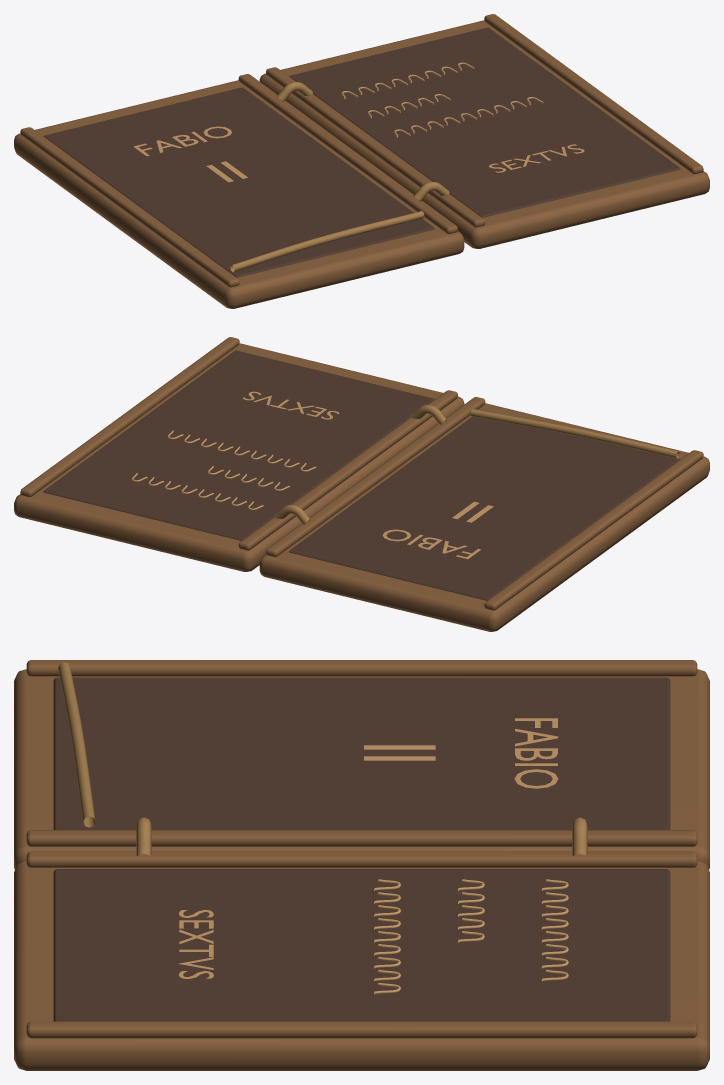
File: sextus_tablet.glb
3 renders of one model, top to bottom at view 1: azimuth 30°, elevation 25°; view 2: azimuth 150°, elevation 25°; view 3: azimuth 270°, elevation 25°, orthographic. The views are drawn at different scales.
Parts seen in each view (by area): view 1: Recessed wax.001, Recessed wax, Maple leaf, Maple leaf.001, Carved rim, Carved rim.003, Carved rim.001, Carved rim.002, Bronze stylus, Recipient; view 2: Recessed wax.001, Recessed wax, Maple leaf, Maple leaf.001, Carved rim, Carved rim.003, Carved rim.001, Carved rim.002, Bronze stylus, Recipient; view 3: Recessed wax.001, Recessed wax, Maple leaf.001, Maple leaf, Carved rim.003, Carved rim.002, Carved rim, Carved rim.001, Bronze stylus, Recipient, Author, Quantity.
Part boxes in pixels (left/top/right/bottom): Recessed wax.001: left=289, top=27, right=680, bottom=217; Recessed wax: left=43, top=87, right=434, bottom=277; Maple leaf: left=14, top=80, right=464, bottom=308; Maple leaf.001: left=259, top=20, right=709, bottom=248; Carved rim: left=20, top=127, right=239, bottom=287; Carved rim.003: left=484, top=14, right=703, bottom=173; Carved rim.001: left=238, top=74, right=457, bottom=233; Carved rim.002: left=266, top=67, right=485, bottom=227; Bronze stylus: left=230, top=211, right=424, bottom=272; Recipient: left=133, top=126, right=231, bottom=156; Recessed wax.001: left=43, top=350, right=434, bottom=540; Recessed wax: left=289, top=410, right=680, bottom=600; Maple leaf: left=259, top=403, right=709, bottom=631; Maple leaf.001: left=14, top=343, right=464, bottom=571; Carved rim: left=484, top=450, right=703, bottom=610; Carved rim.003: left=20, top=337, right=239, bottom=496; Carved rim.001: left=266, top=397, right=485, bottom=556; Carved rim.002: left=238, top=390, right=457, bottom=550; Bronze stylus: left=470, top=409, right=679, bottom=458; Recipient: left=382, top=529, right=480, bottom=559; Recessed wax.001: left=53, top=869, right=670, bottom=1021; Recessed wax: left=53, top=677, right=670, bottom=829; Maple leaf.001: left=14, top=860, right=709, bottom=1070; Maple leaf: left=14, top=669, right=709, bottom=869; Carved rim.003: left=26, top=1021, right=697, bottom=1038; Carved rim.002: left=26, top=851, right=697, bottom=867; Carved rim: left=26, top=660, right=697, bottom=676; Carved rim.001: left=26, top=830, right=697, bottom=846; Bronze stylus: left=58, top=662, right=95, bottom=827; Recipient: left=514, top=718, right=558, bottom=788; Author: left=179, top=910, right=213, bottom=978; Quantity: left=364, top=745, right=435, bottom=760.
Bounding box in the file's own units: 0.213 × 0.0178 × 0.166.
